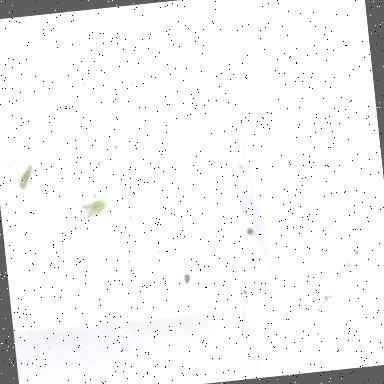pbw: (82, 196, 108, 218), (16, 164, 36, 190)
